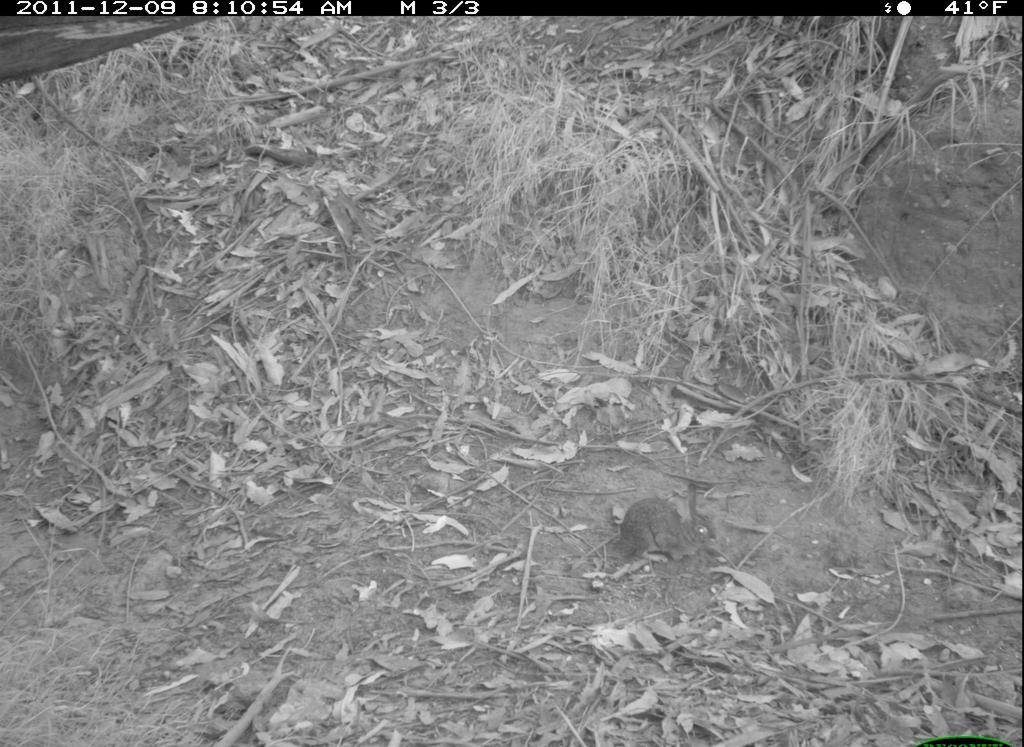rabbit: (605, 477, 730, 570)
